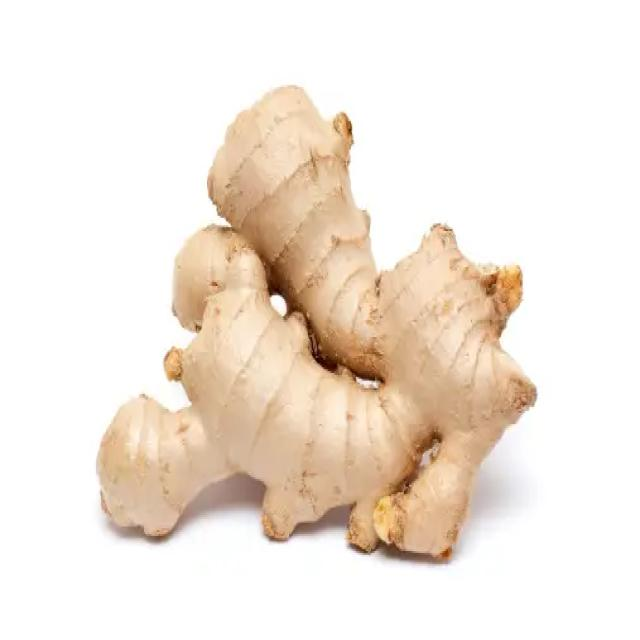ginger-root: (85, 53, 554, 579)
